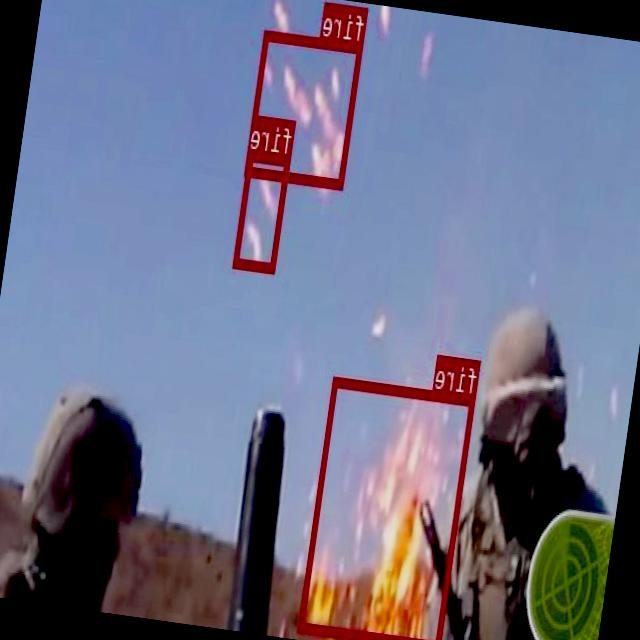fire: (299, 375, 477, 640), (246, 29, 364, 188), (234, 150, 292, 272)
